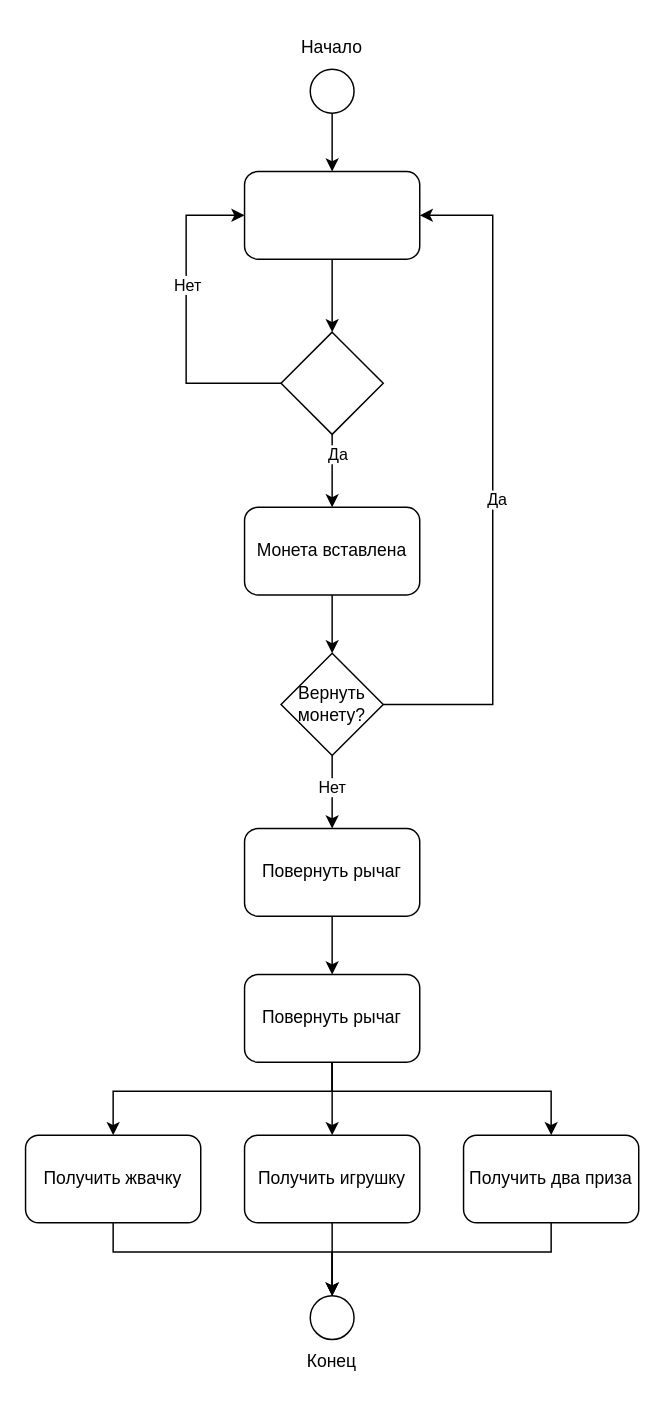
Some shapes in this 664 by 1407 pixel diagram are drawn without their labels. The shapes that lost their labels are listed below. From the top down, each one's centre as x and y in pixels, then its label:
At [331,214]: "Без монеты".
At [331,382]: "Вставить монету?".
